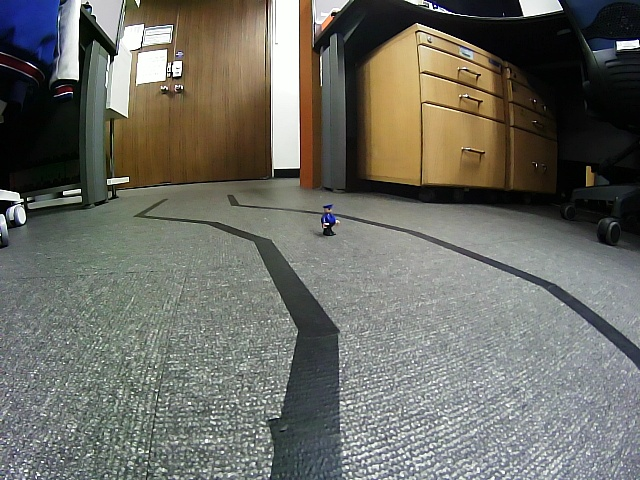person: (320, 203, 340, 237)
